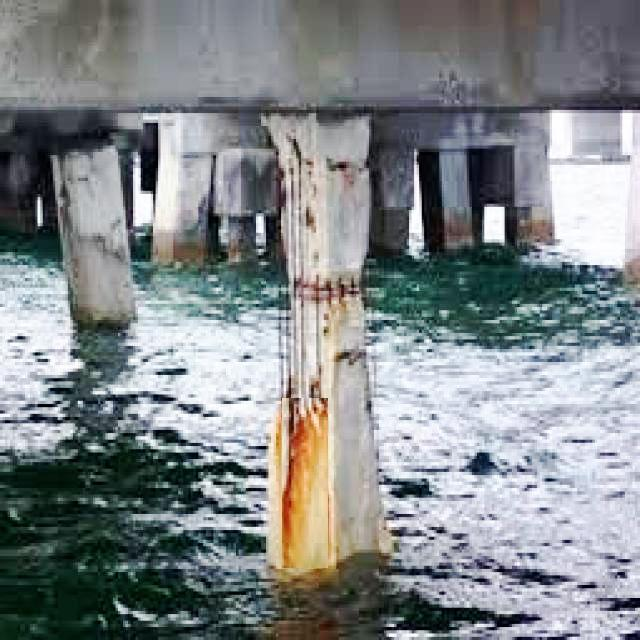Corrosion: (270, 399, 335, 570), (288, 271, 362, 304)
